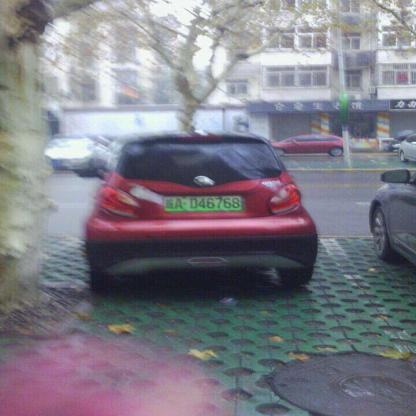lp: (165, 195, 240, 210)
